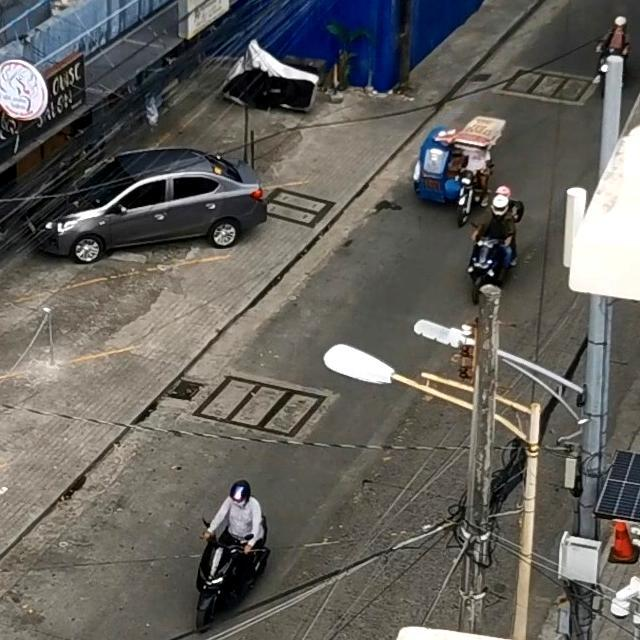Motorcycle: (202, 480, 266, 590), (467, 218, 520, 292)
